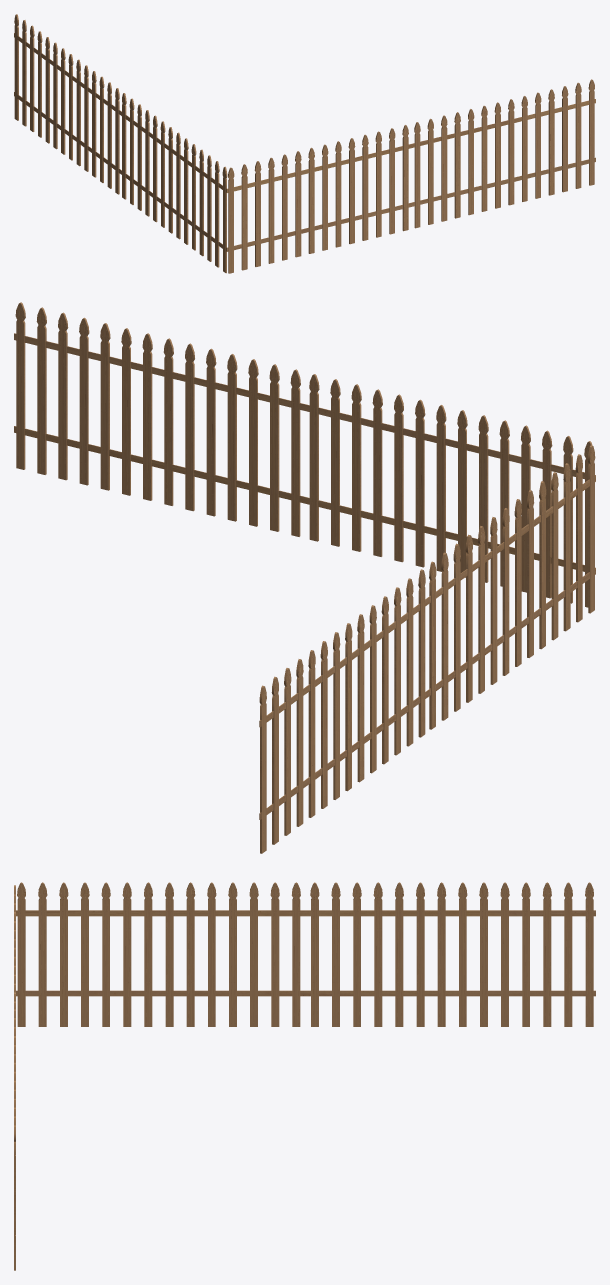
Rendered from wooden_fence.fbx.
3 renders of one model, top to bottom at view 1: azimuth 30°, elevation 25°; view 2: azimuth 150°, elevation 25°; view 3: azimuth 270°, elevation 25°, orthographic. The views are drawn at different scales.
Visible parts, largest first — view 1: Box002, Box001, Box004, Plane017, Plane006, Box003, Plane002, Plane011, Plane004, Plane007, Plane015, Plane022 (+48 smaller); view 2: Box001, Box002, Box003, Box004, Plane024, Plane014, Plane018, Plane027, Plane011, Plane020, Plane021, Plane025 (+46 smaller); view 3: Box003, Box004, Plane041, Plane034, Plane030, Plane037, Plane046, Plane042, Plane049, Plane054, Plane029, Plane035 (+18 smaller).
Boxes of the visible parts, left/top/right/bottom form: Box002: left=227, top=157, right=595, bottom=251; Box001: left=227, top=99, right=595, bottom=192; Box004: left=14, top=92, right=226, bottom=251; Plane017: left=441, top=115, right=447, bottom=221; Plane006: left=295, top=151, right=301, bottom=257; Box003: left=14, top=33, right=226, bottom=192; Plane002: left=241, top=164, right=247, bottom=270; Plane011: left=362, top=134, right=368, bottom=240; Plane004: left=268, top=157, right=274, bottom=263; Plane007: left=308, top=147, right=314, bottom=253; Plane015: left=414, top=122, right=420, bottom=228; Plane022: left=508, top=99, right=514, bottom=205; Box001: left=14, top=333, right=595, bottom=479; Box002: left=14, top=426, right=595, bottom=571; Box003: left=259, top=475, right=595, bottom=727; Box004: left=259, top=568, right=595, bottom=819; Plane024: left=100, top=323, right=110, bottom=490; Plane014: left=309, top=374, right=319, bottom=541; Plane018: left=227, top=354, right=237, bottom=521; Plane027: left=36, top=307, right=46, bottom=474; Plane011: left=372, top=389, right=382, bottom=556; Plane020: left=185, top=343, right=194, bottom=511; Plane021: left=163, top=338, right=173, bottom=505; Plane025: left=79, top=317, right=89, bottom=485; Box003: left=16, top=910, right=595, bottom=916; Box004: left=16, top=990, right=595, bottom=996; Plane041: left=270, top=882, right=279, bottom=1026; Plane034: left=122, top=882, right=131, bottom=1026; Plane030: left=38, top=882, right=47, bottom=1026; Plane037: left=186, top=882, right=195, bottom=1026; Plane046: left=373, top=882, right=382, bottom=1026; Plane042: left=291, top=882, right=300, bottom=1026; Plane049: left=437, top=882, right=446, bottom=1026; Plane054: left=542, top=882, right=551, bottom=1026; Plane029: left=17, top=882, right=25, bottom=1026; Plane035: left=144, top=882, right=152, bottom=1026.
Size of the model in its own units: 652 by 178 by 652.
Materials: 1 (1 with a texture image).
